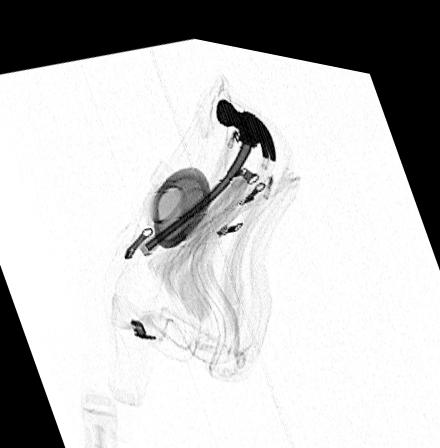Hammer: (144, 87, 275, 245)
